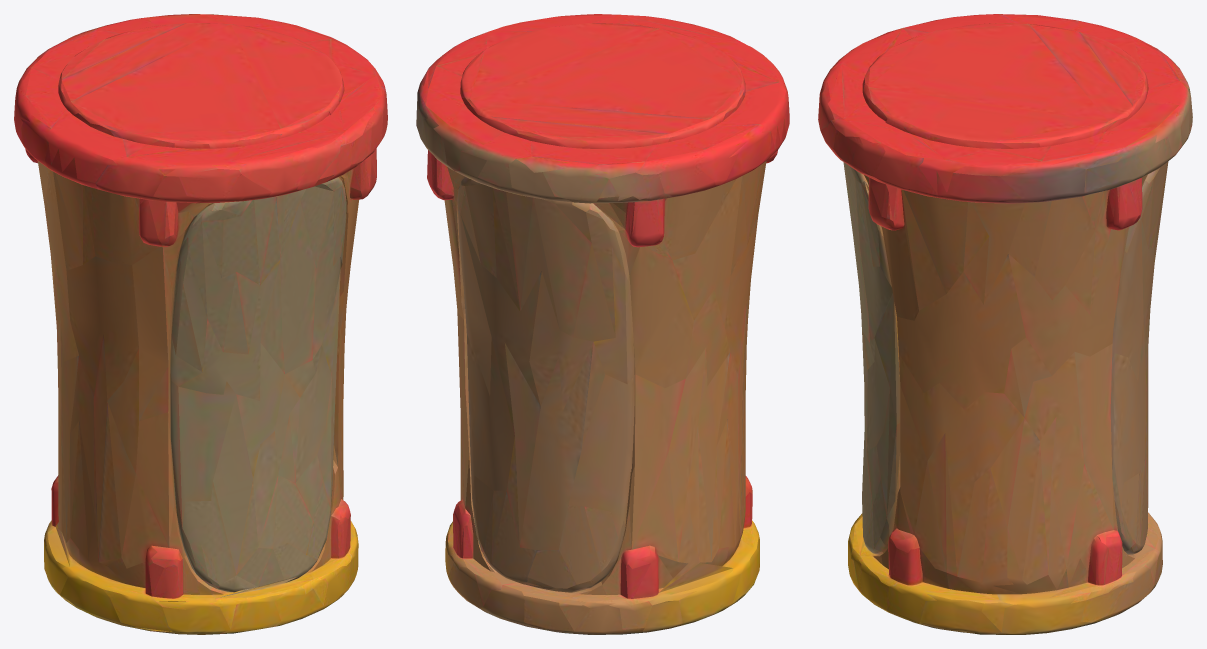
The model's file is drum.bf4fe1d2.glb.
The picture shows the model from 3 angles, left to right: view 1: azimuth 30°, elevation 25°; view 2: azimuth 150°, elevation 25°; view 3: azimuth 270°, elevation 25°; orthographic projection.
Parts seen in each view (by area): view 1: output_unwrapped; view 2: output_unwrapped; view 3: output_unwrapped.
Boxes of the visible parts, bbox=[...] form: output_unwrapped: bbox=[14, 14, 387, 634]; output_unwrapped: bbox=[416, 14, 789, 634]; output_unwrapped: bbox=[818, 14, 1192, 634].
Size of the model in its own units: 1.31 by 1.9 by 1.31.
Materials: 1 (1 with a texture image).
